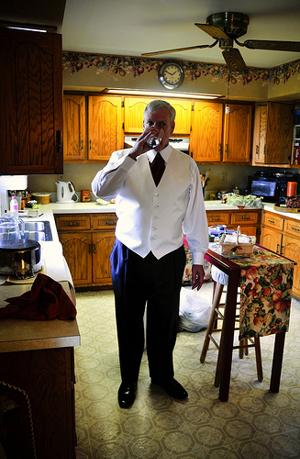person: (92, 99, 211, 410)
